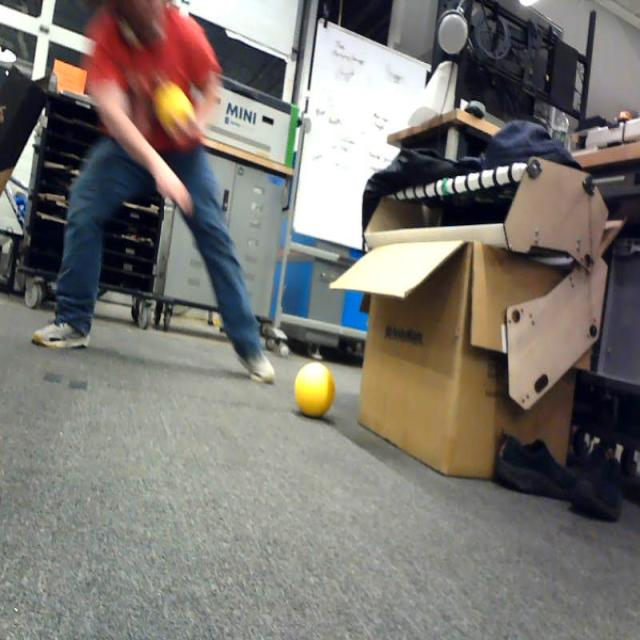Fuel: (295, 362, 335, 418), (156, 85, 194, 135)
